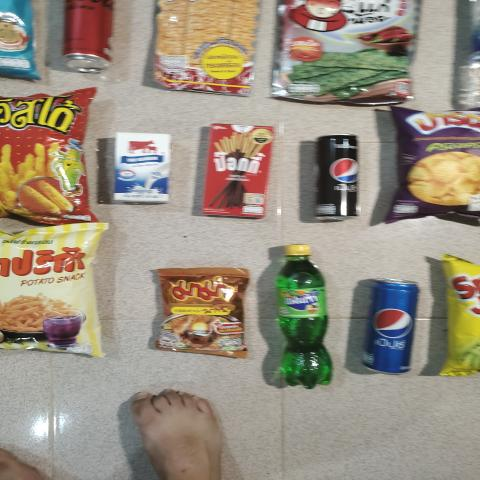coke_red: (56, 0, 114, 78)
fanta_green: (275, 245, 336, 391)
mama: (146, 261, 246, 366)
paprika: (0, 231, 98, 362)
party_purple: (396, 109, 480, 221)
pepsi_black: (310, 132, 366, 224)
pepsi_blue: (370, 279, 420, 370)
pokki: (206, 125, 272, 217)
thai_denmark: (114, 132, 174, 208)
twisco: (0, 90, 98, 225)
